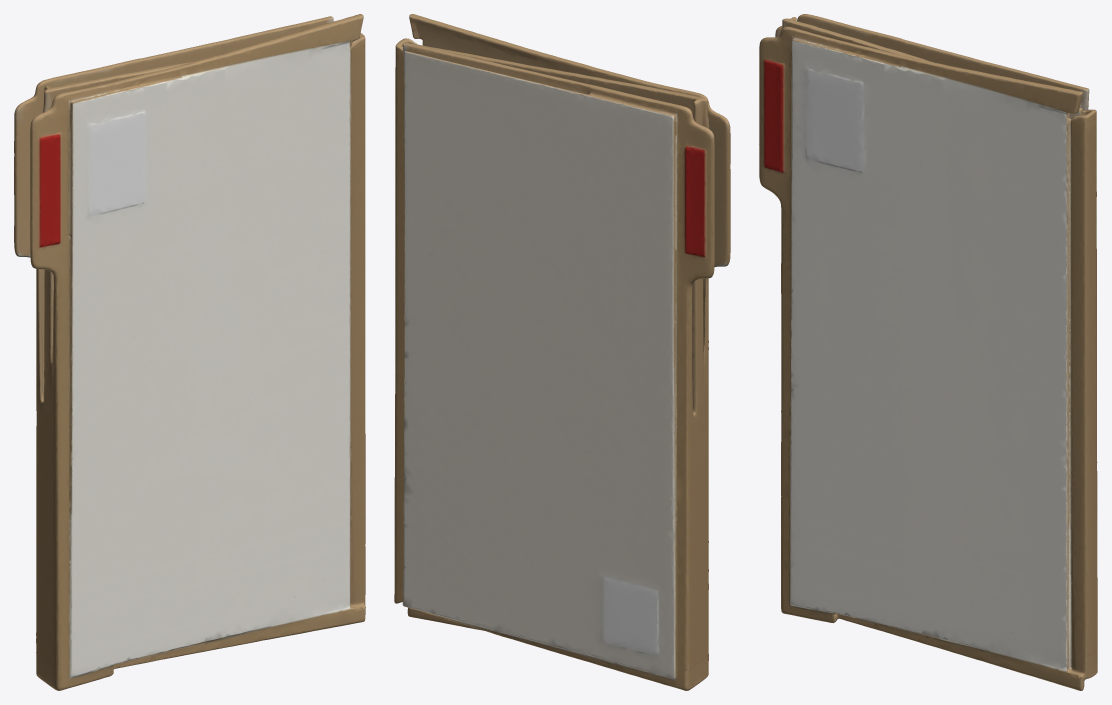
The model's file is CaseFolder.fbx.
The picture shows the model from 3 angles, left to right: view 1: azimuth 30°, elevation 25°; view 2: azimuth 150°, elevation 25°; view 3: azimuth 330°, elevation 25°; orthographic projection. The views are drawn at different scales.
Visible parts, largest first — view 1: Mesh_0; view 2: Mesh_0; view 3: Mesh_0.
Boxes of the visible parts, box(x1,y1,x2,y2) form: Mesh_0: box(14, 14, 365, 690); Mesh_0: box(394, 14, 730, 690); Mesh_0: box(759, 14, 1097, 690).
Bounding box in the file's own units: 110 × 190 × 15.09.
Materials: 1 (1 with a texture image).
